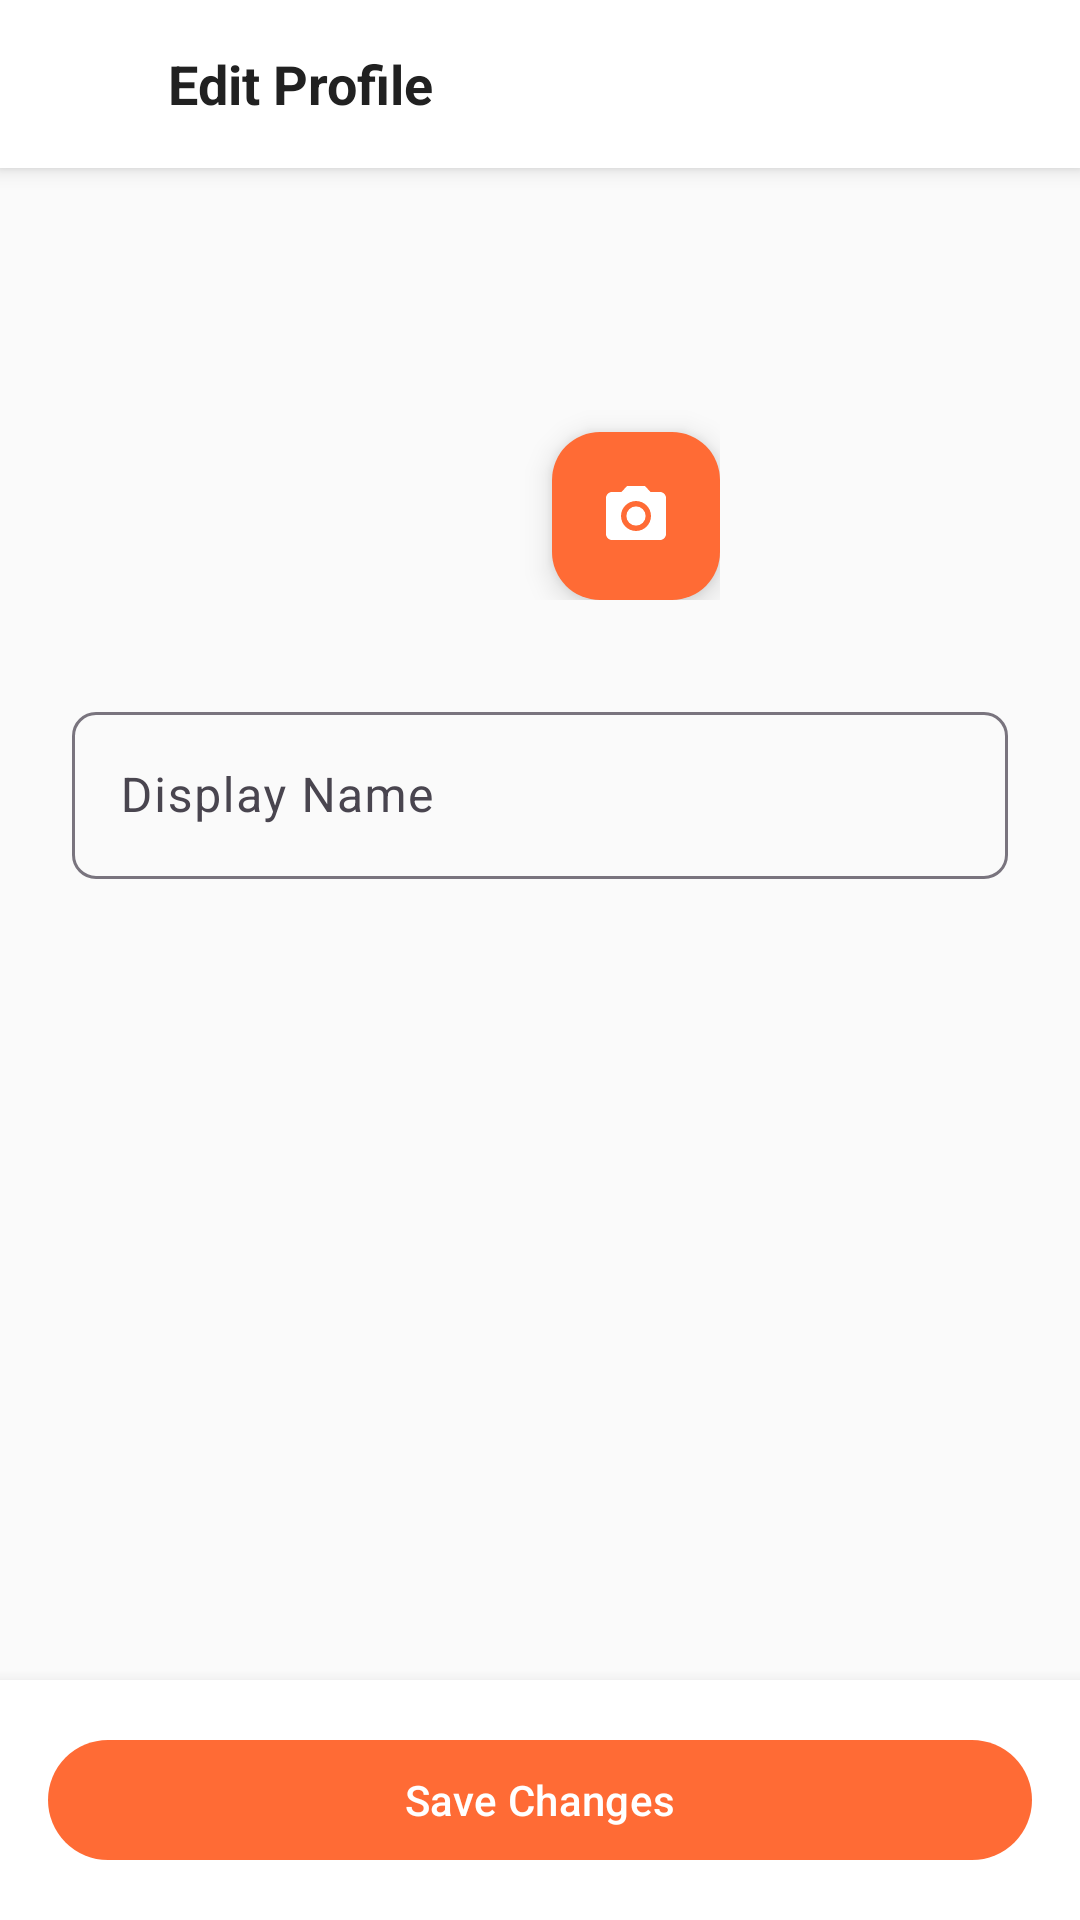

Point at icon controls on the screen. Image size 1080w x 1920h, points as (x=x, y=y).
Change photo: (x=636, y=516)
